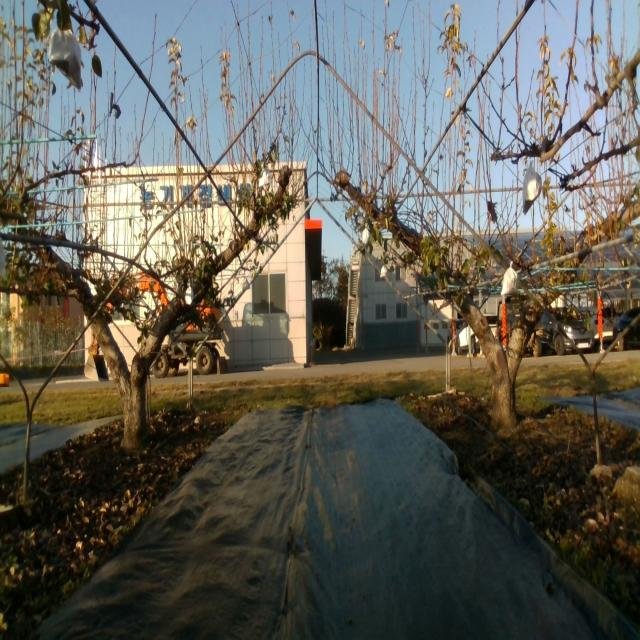pearbags: (48, 26, 82, 90), (523, 167, 543, 213), (501, 260, 518, 296), (258, 166, 272, 188)
